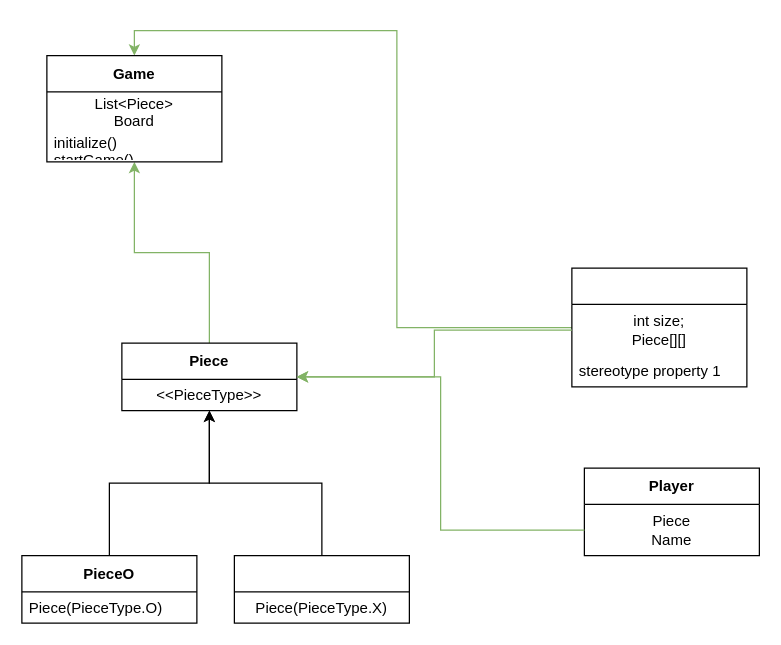
This 781x645 diagram has some shape labels left out. The box of each missing label's shape, as (x1, y1, x2, y2) in pixels:
Board: (571, 267, 747, 387)
PieceX: (233, 554, 409, 623)
